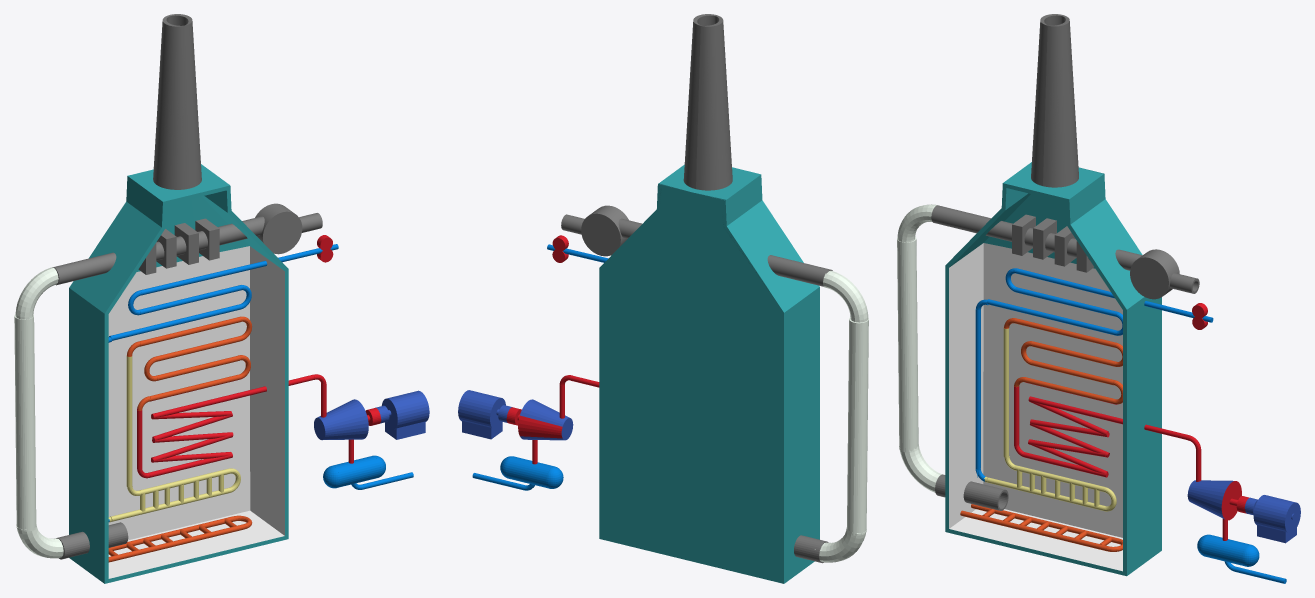
The model's file is benson_boiler.glb.
The picture shows the model from 3 angles, left to right: view 1: azimuth 30°, elevation 25°; view 2: azimuth 150°, elevation 25°; view 3: azimuth 330°, elevation 25°; orthographic projection.
Visible parts, largest first — view 1: Cube.001_1, Cube_7, Cylinder.003_4, Cylinder.001_2, Torus.008_6, Cylinder.002_3, Torus.010_5; view 2: Cube.001_1, Cube_7, Cylinder.001_2, Cylinder.003_4, Torus.008_6, Torus.010_5, Cylinder.002_3; view 3: Cube.001_1, Cube_7, Cylinder.003_4, Cylinder.001_2, Cylinder.002_3, Torus.010_5, Torus.008_6.
Part boxes in pixels (box(x1,y1,x2,y2)): Cube.001_1: box(69, 14, 288, 583); Cube_7: box(108, 235, 429, 562); Cylinder.003_4: box(52, 203, 322, 285); Cylinder.001_2: box(14, 314, 36, 531); Torus.008_6: box(15, 267, 58, 319); Cylinder.002_3: box(56, 522, 128, 559); Torus.010_5: box(16, 524, 63, 558); Cube.001_1: box(599, 14, 819, 583); Cube_7: box(458, 235, 608, 490); Cylinder.001_2: box(847, 317, 868, 535); Cylinder.003_4: box(561, 205, 832, 286); Torus.008_6: box(823, 270, 868, 322); Torus.010_5: box(815, 527, 866, 562); Cylinder.002_3: box(794, 535, 828, 563); Cube.001_1: box(945, 14, 1161, 576); Cube_7: box(960, 268, 1300, 583); Cylinder.003_4: box(931, 205, 1199, 299); Cylinder.001_2: box(897, 237, 918, 452); Cylinder.002_3: box(935, 474, 1008, 510); Torus.010_5: box(899, 444, 941, 492); Torus.008_6: box(897, 204, 937, 242).
Size of the model in its own units: 40.61 by 50.65 by 6.2.
